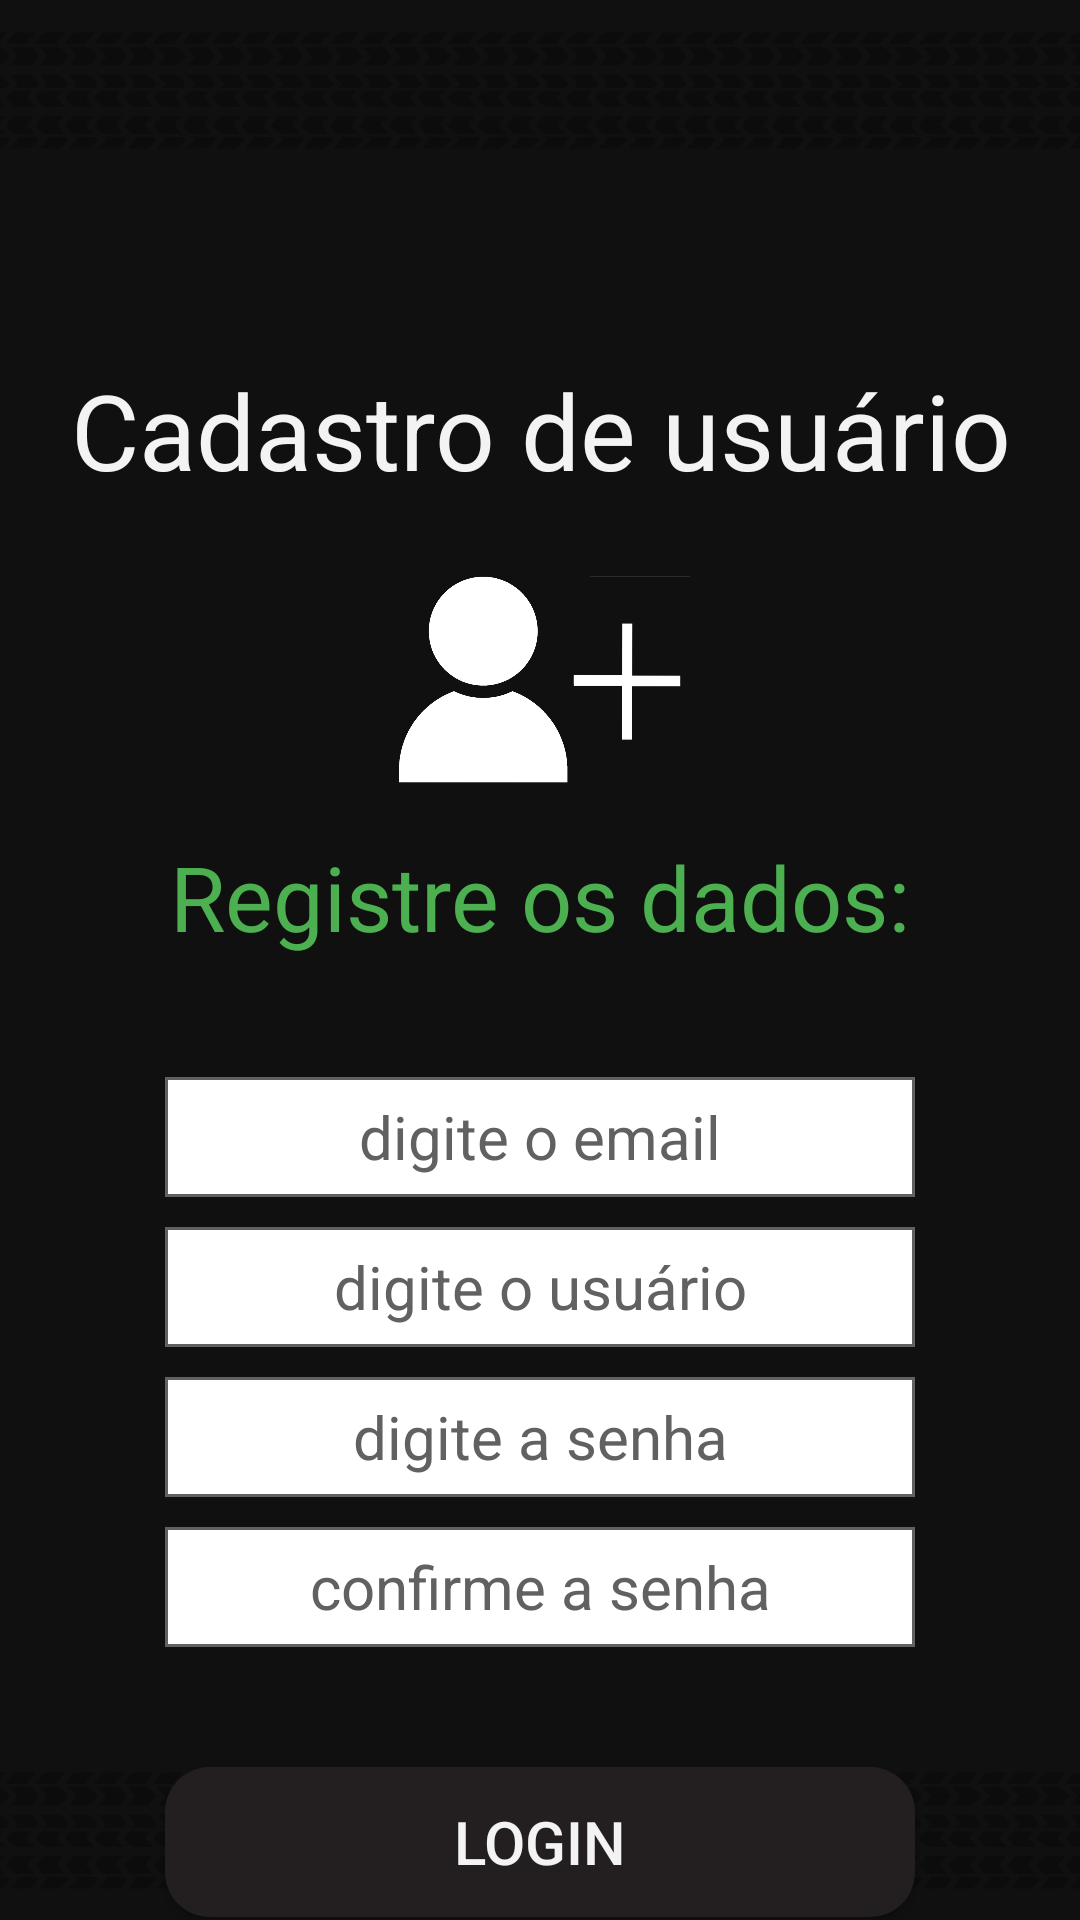

Named icons in this screenshot (1080x1920) and their bounding boxes, box(x1, y1, x2, y2):
userplusicon: box(399, 576, 690, 783)
